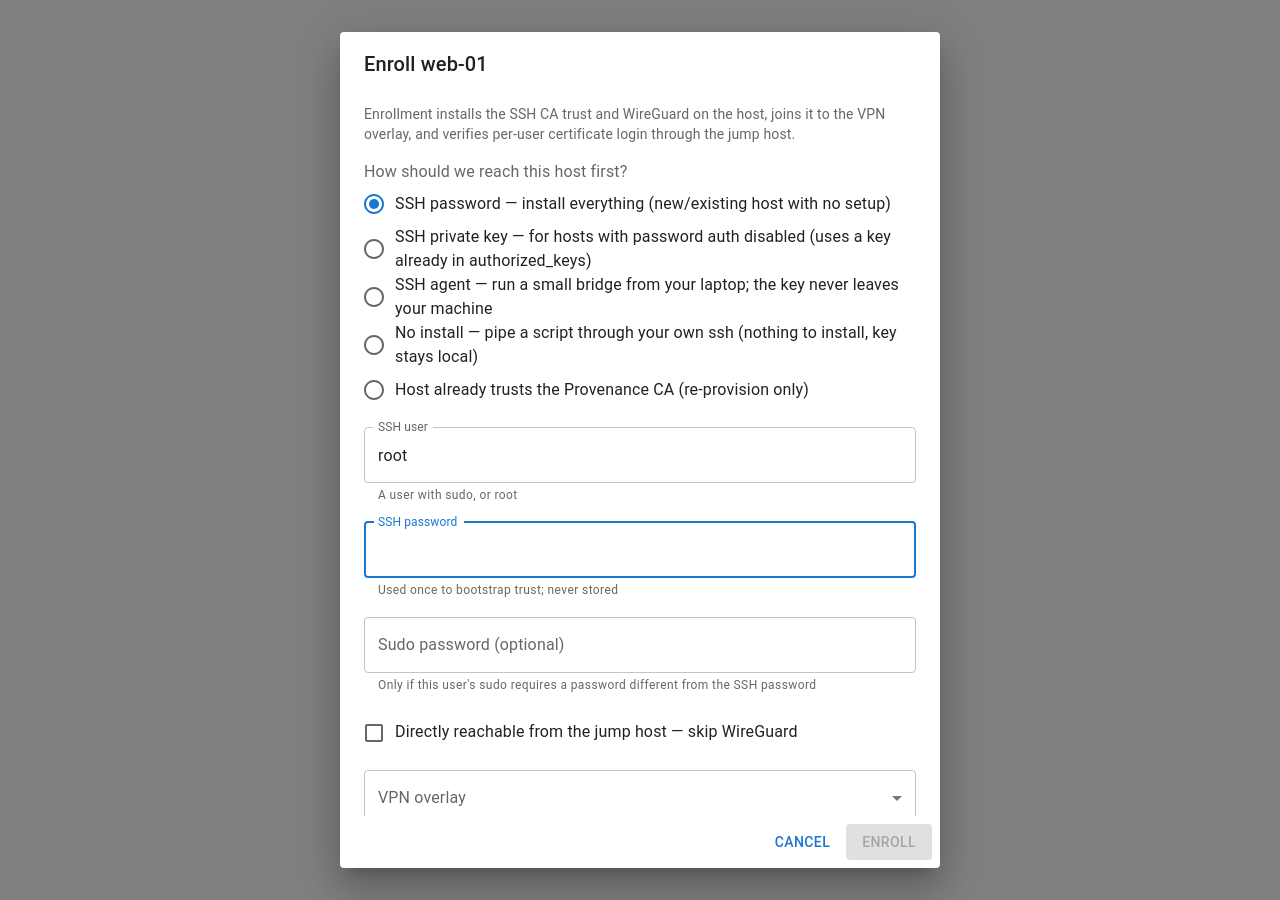
Test: EnrollCredsDialog no-install VPN overlay › builds the bootstrap command for the selected overlay
Click the radio button labelled "No install" at [626, 345], box [353,321,900,369]
(page scrolled)
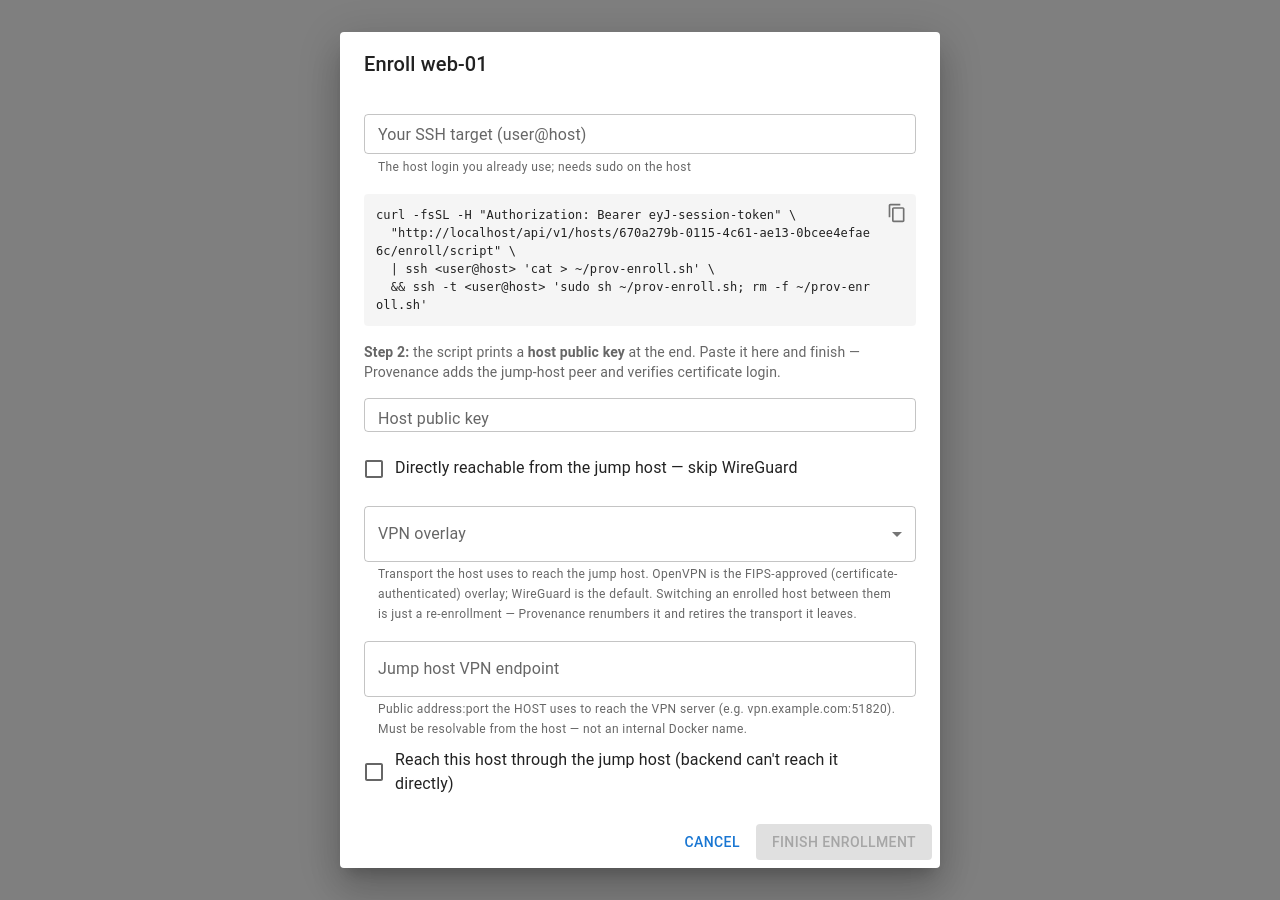
Press the mouse on the dropdown named "VPN overlay" at [640, 534], box [364,506,916,562]
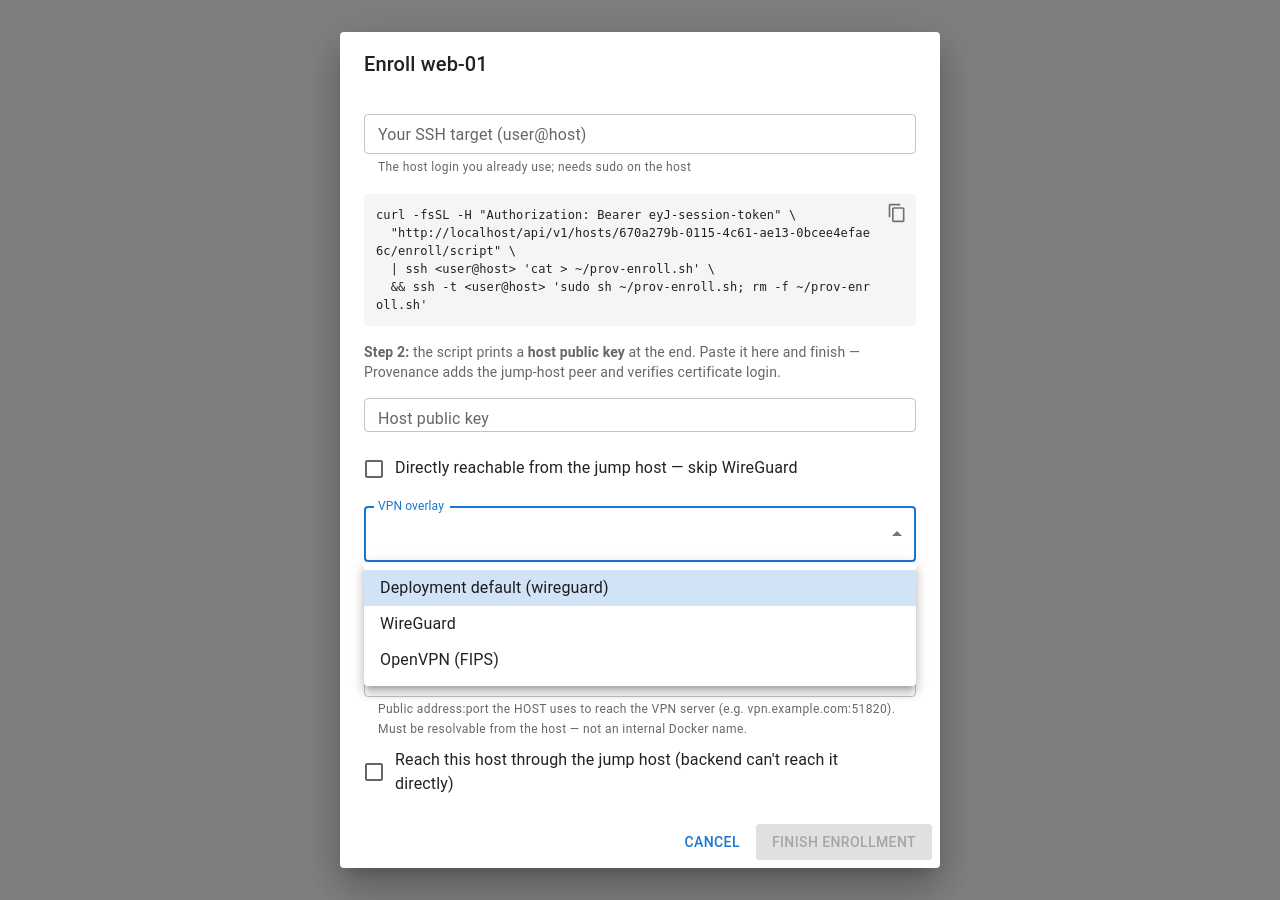
Click the option "OpenVPN (FIPS)" at [439, 660], box [380,650,499,669]
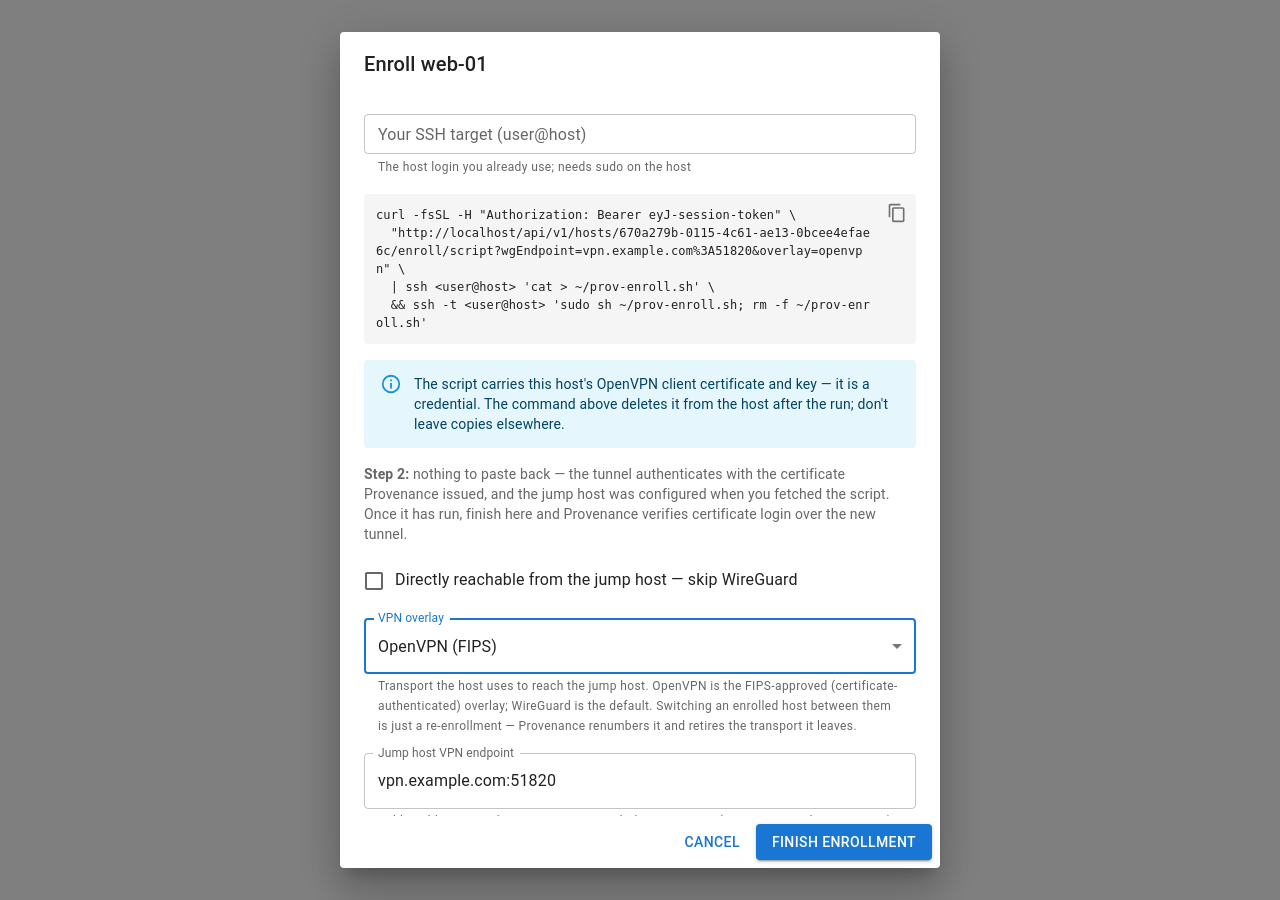
Expected: the text "curl -fsSL" shows "overlay=openvpn", [376,208,870,330]
